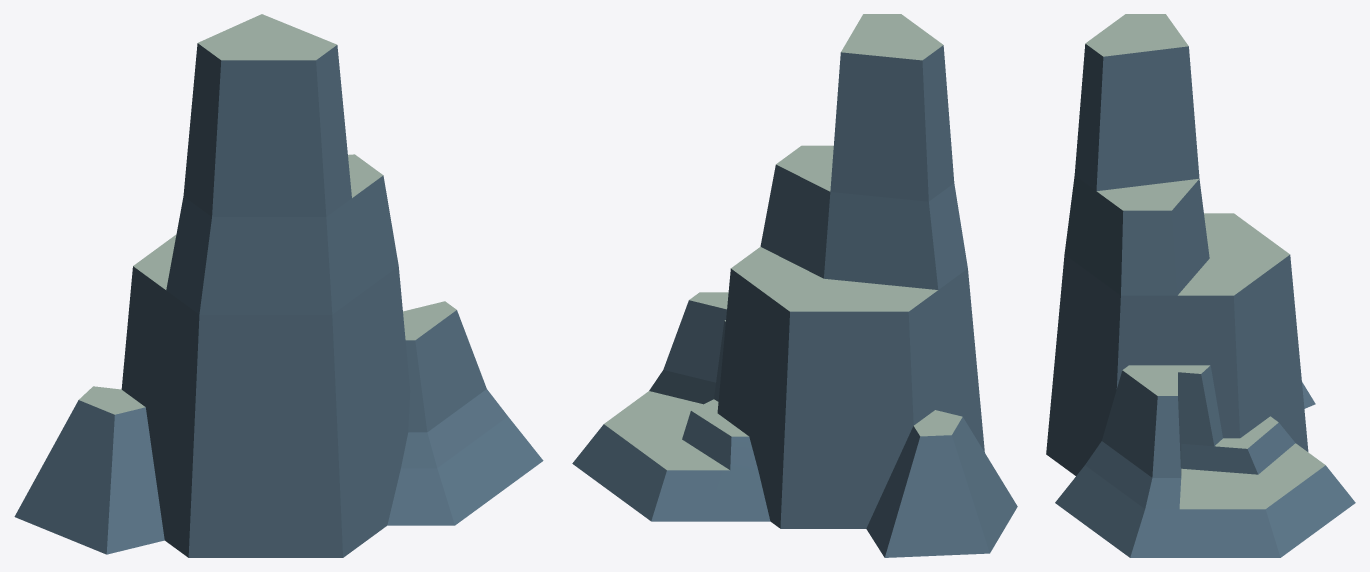
The model's file is rockTall.glb.
The picture shows the model from 3 angles, left to right: view 1: azimuth 30°, elevation 25°; view 2: azimuth 150°, elevation 25°; view 3: azimuth 270°, elevation 25°; orthographic projection. The views are drawn at different scales.
Parts seen in each view (by area): view 1: rock_tallA; view 2: rock_tallA; view 3: rock_tallA.
Part boxes in pixels (bbox=[...]): rock_tallA: bbox=[14, 14, 543, 557]; rock_tallA: bbox=[572, 14, 1017, 557]; rock_tallA: bbox=[1046, 14, 1355, 557].
Size of the model in its own units: 0.9871 by 1 by 0.686.
